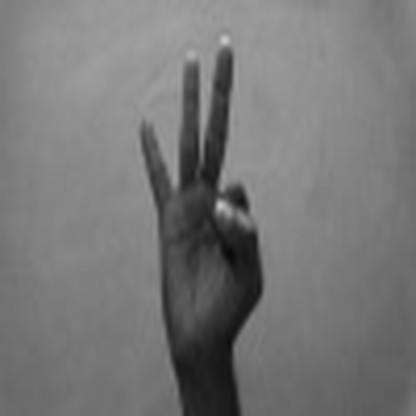f: (129, 35, 266, 360)
